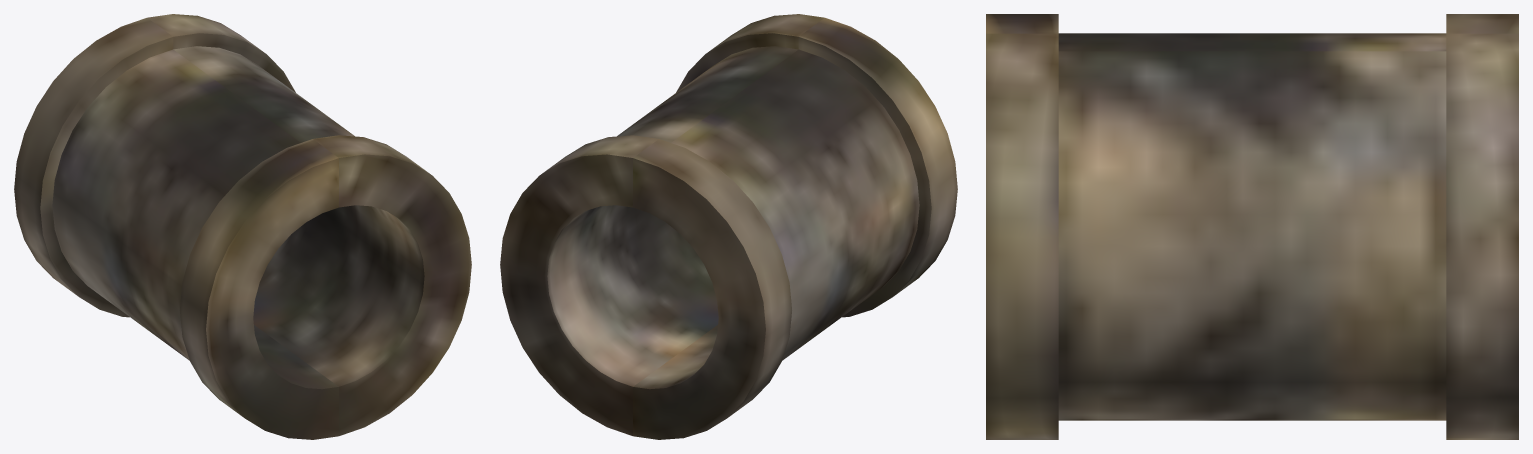
File: pipe-straight-short.glb
3 renders of one model, left to right at view 1: azimuth 30°, elevation 25°; view 2: azimuth 150°, elevation 25°; view 3: azimuth 270°, elevation 25°, orthographic. The views are drawn at different scales.
Parts seen in each view (by area): view 1: pipe-straight-short; view 2: pipe-straight-short; view 3: pipe-straight-short.
Boxes of the visible parts, x1=… form: pipe-straight-short: x1=14, y1=14, x2=471, y2=439; pipe-straight-short: x1=500, y1=14, x2=957, y2=439; pipe-straight-short: x1=986, y1=14, x2=1518, y2=439.
Size of the model in its own units: 0.2811 by 0.2811 by 0.3514.
1 material, 1 textured.
